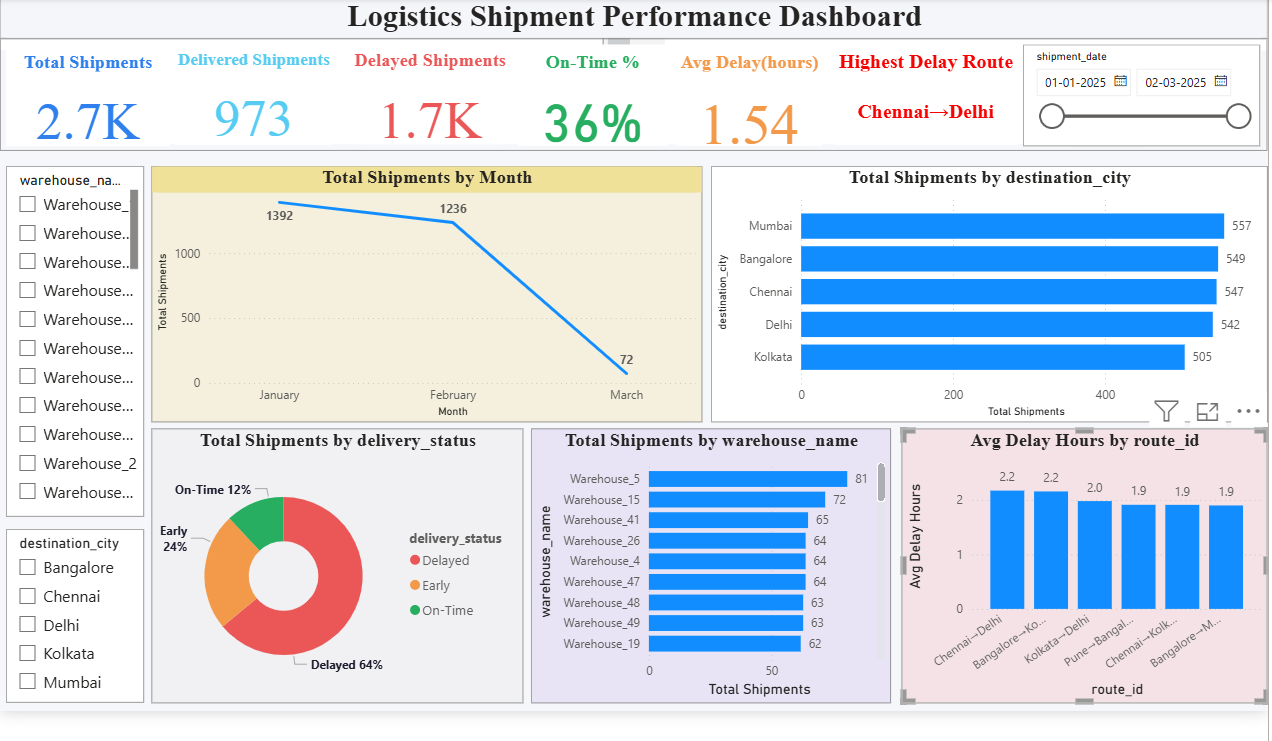

This screenshot's page, from the dashboard's own definition file:
{"tool":"powerbi","page":{"name":"Page 1","canvas":[1280,720],"ordinal":0},"visuals":[{"type":"cardVisual","box":[0,0,1279.4,52.4],"z":0},{"type":"lineChart","fields":{"Category":["dim_date.shipment_date.Variation.Date Hierarchy.Month"],"Y":["fact_logistics.Total Shipments"]},"box":[152.9,169.6,555.7,258.9],"z":2000},{"type":"donutChart","fields":{"Category":["fact_logistics.delivery_status"],"Y":["fact_logistics.Total Shipments"]},"box":[152.9,434.6,375.5,277.1],"z":3000},{"type":"barChart","fields":{"Y":["fact_logistics.Total Shipments"],"Category":["dim_warehouse.warehouse_name"]},"box":[536,434.6,363.4,277.1],"z":4000},{"type":"columnChart","fields":{"Y":["fact_logistics.Avg Delay Hours"],"Category":["fact_logistics.route_id"]},"box":[910,434.6,361.9,277.1],"z":5000},{"type":"barChart","fields":{"Category":["fact_logistics.destination_city"],"Y":["fact_logistics.Total Shipments"]},"box":[717.7,169.6,554.2,258.9],"z":6000},{"type":"cardVisual","title":"Logistics Shipment Performance Dashboard","fields":{"Data":["fact_logistics.Total Shipments"]},"box":[0,0,1278.8,40.9],"z":7000},{"type":"cardVisual","title":"Logistics Shipment Performance Dashboard","fields":{"Data":["fact_logistics.Total Shipments"]},"box":[0,40.9,1279.5,113.6],"z":7001},{"type":"cardVisual","title":"Total Shipments","fields":{"Data":["fact_logistics.Total Shipments"]},"box":[6.1,48.5,165,101.5],"z":7007},{"type":"cardVisual","title":"Delivered Shipments","fields":{"Data":["fact_logistics.Delivered Shipments"]},"box":[171.1,46.9,169.6,101.5],"z":7009},{"type":"cardVisual","title":"Delayed Shipments","fields":{"Data":["fact_logistics.Delayed Shipments"]},"box":[351.3,46.9,165,101.5],"z":7010},{"type":"cardVisual","title":"On-Time %","fields":{"Data":["fact_logistics.On-Time %"]},"box":[516.3,48.5,163.5,101.5],"z":7011},{"type":"cardVisual","title":"Avg Delay(hours)","fields":{"Data":["fact_logistics.Avg Delay Hours"]},"box":[676.8,48.5,159,101.5],"z":7012},{"type":"slicer","fields":{"Values":["dim_date.shipment_date"]},"box":[1032.7,46.9,239.2,103],"z":7013},{"type":"slicer","fields":{"Values":["dim_warehouse.warehouse_name"]},"box":[6.1,169.6,139.3,354.3],"z":7014},{"type":"slicer","fields":{"Values":["fact_logistics.destination_city"]},"box":[6.1,536,139.3,175.6],"z":7015},{"type":"cardVisual","title":"Highest Delay Route","fields":{"Data":["fact_logistics.Highest Delay Route"]},"box":[835.8,46.9,196.8,101.5],"z":7016}]}

Visuals, with their boxes on the page's 1280x720 design canvas (x1, y1, x2, y2). These are canvas units, not pixel positions in the 1272x741 screenshot, which may show the page scaled, cropped or inside an application window:
cardVisual: select_region(0, 0, 1279, 52)
lineChart - dim_date.shipment_date.Variation.Date Hierarchy.Month x fact_logistics.Total Shipments: select_region(153, 170, 709, 428)
donutChart - fact_logistics.delivery_status x fact_logistics.Total Shipments: select_region(153, 435, 528, 712)
barChart - fact_logistics.Total Shipments x dim_warehouse.warehouse_name: select_region(536, 435, 899, 712)
columnChart - fact_logistics.Avg Delay Hours x fact_logistics.route_id: select_region(910, 435, 1272, 712)
barChart - fact_logistics.destination_city x fact_logistics.Total Shipments: select_region(718, 170, 1272, 428)
"Logistics Shipment Performance Dashboard" cardVisual: select_region(0, 0, 1279, 41)
"Logistics Shipment Performance Dashboard" cardVisual: select_region(0, 41, 1280, 154)
"Total Shipments" cardVisual: select_region(6, 48, 171, 150)
"Delivered Shipments" cardVisual: select_region(171, 47, 341, 148)
"Delayed Shipments" cardVisual: select_region(351, 47, 516, 148)
"On-Time %" cardVisual: select_region(516, 48, 680, 150)
"Avg Delay(hours)" cardVisual: select_region(677, 48, 836, 150)
slicer - dim_date.shipment_date: select_region(1033, 47, 1272, 150)
slicer - dim_warehouse.warehouse_name: select_region(6, 170, 145, 524)
slicer - fact_logistics.destination_city: select_region(6, 536, 145, 712)
"Highest Delay Route" cardVisual: select_region(836, 47, 1033, 148)
